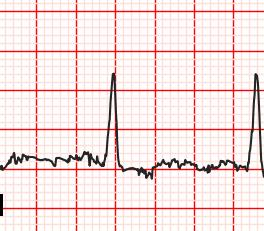T inversion: (128, 157, 168, 189)
